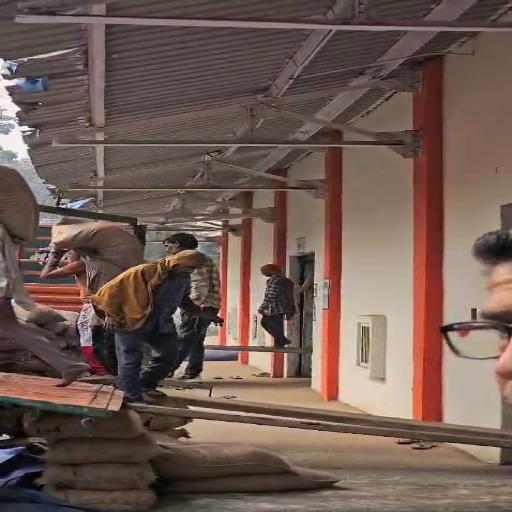bag: (48, 214, 157, 271)
